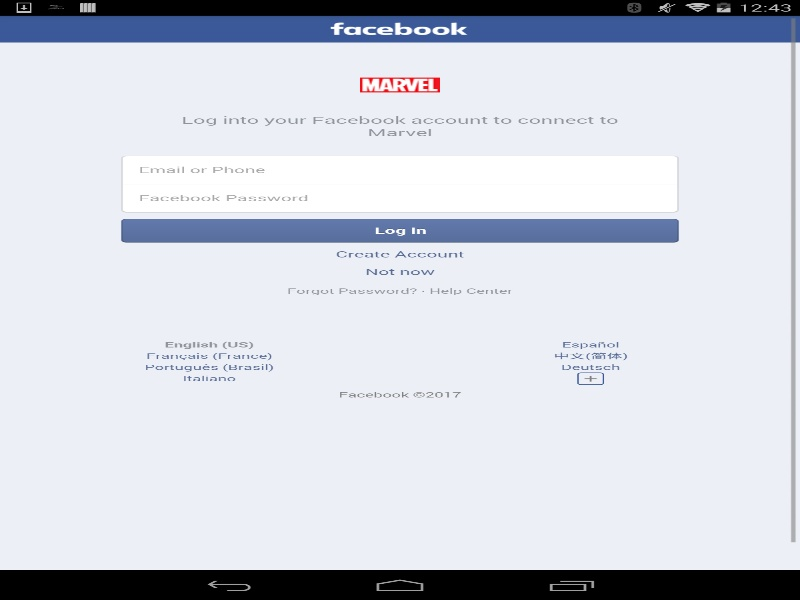Button: (122, 219, 677, 241)
Input: (122, 156, 677, 184), (122, 184, 677, 211)
